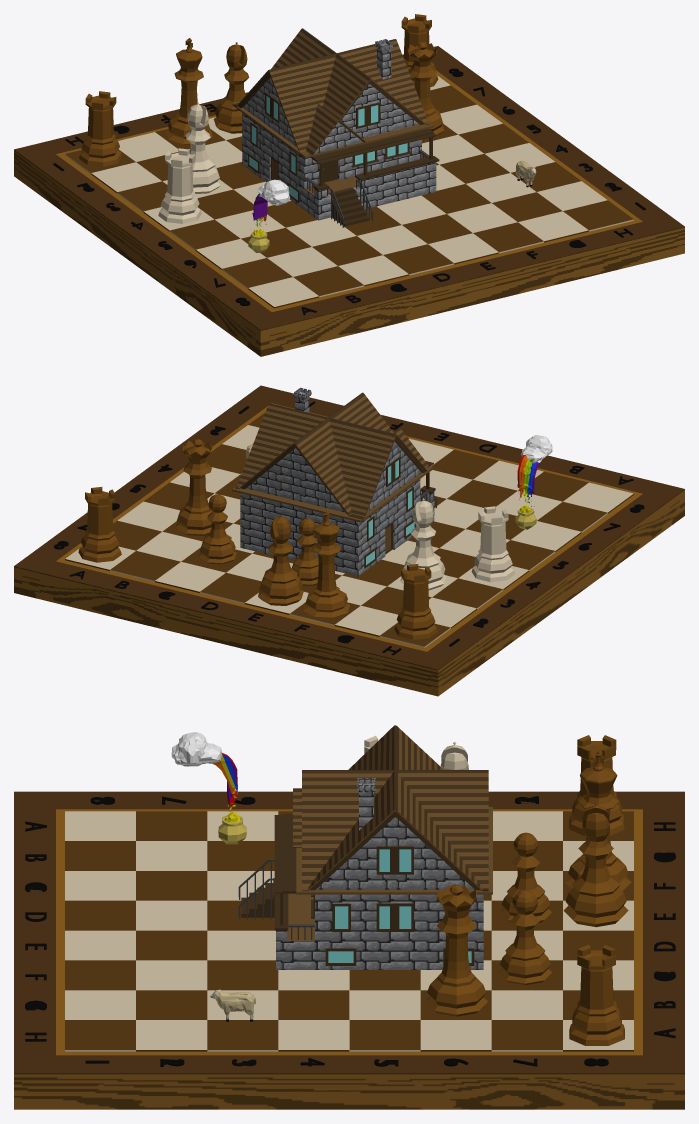
3 views of the same model, one above another, from view 1: azimuth 30°, elevation 25°; view 2: azimuth 150°, elevation 25°; view 3: azimuth 270°, elevation 25° (orthographic). The views are drawn at different scales.
Visible parts, largest first — view 1: Cube.002, Cube.586, OBJRANDOM_RAINBOW; view 2: Cube.002, Cube.586, OBJRANDOM_RAINBOW; view 3: Cube.002, Cube.586, OBJRANDOM_RAINBOW, ANIMAL_OVEJA.
Boxes of the visible parts, left/top/right/bottom form: Cube.002: left=14, top=14, right=684, bottom=356; Cube.586: left=232, top=28, right=439, bottom=227; OBJRANDOM_RAINBOW: left=248, top=179, right=290, bottom=252; Cube.002: left=14, top=385, right=684, bottom=696; Cube.586: left=232, top=387, right=436, bottom=576; OBJRANDOM_RAINBOW: left=515, top=435, right=552, bottom=529; Cube.002: left=14, top=735, right=684, bottom=1109; Cube.586: left=238, top=725, right=492, bottom=969; OBJRANDOM_RAINBOW: left=171, top=732, right=246, bottom=844; ANIMAL_OVEJA: left=210, top=989, right=255, bottom=1021.
Bounding box in the file's own units: 3981 × 1471 × 4012.
Materials: 31 (3 with a texture image).
